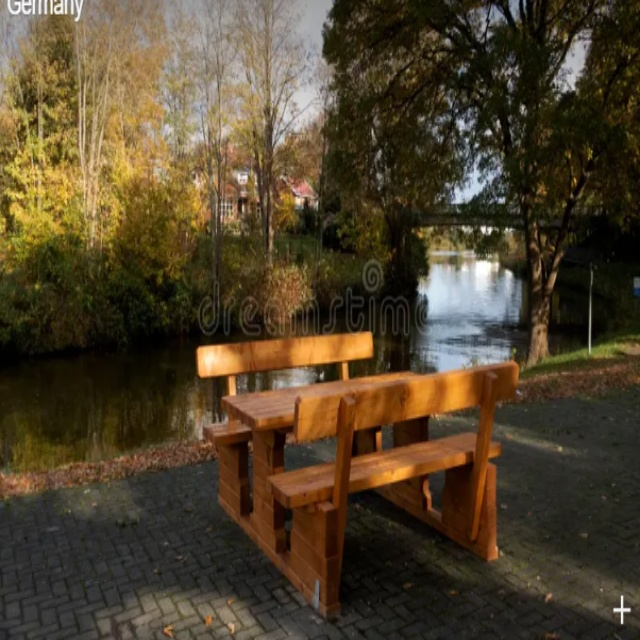obstacle: (186, 328, 528, 594)
